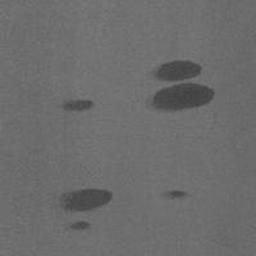Oil spot: (143, 58, 216, 114), (44, 187, 115, 216), (55, 97, 96, 114), (157, 188, 192, 201), (64, 220, 92, 232)
